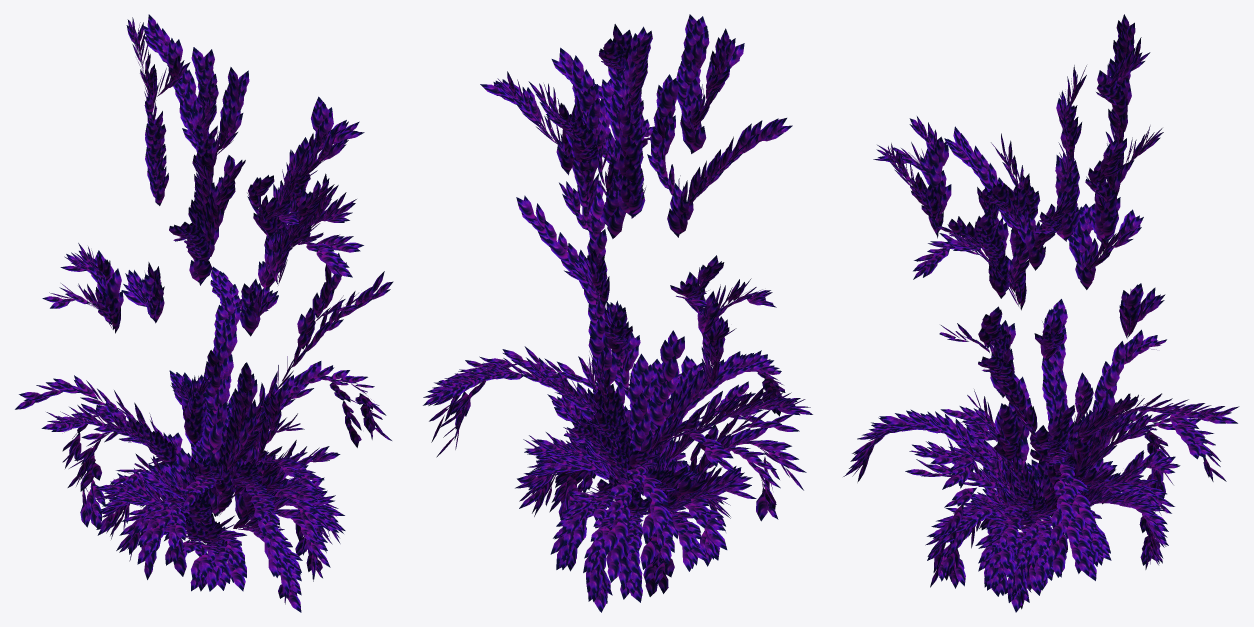
Rendered from arbol2hojas.obj.
3 views of the same model, side by side, from view 1: azimuth 30°, elevation 25°; view 2: azimuth 150°, elevation 25°; view 3: azimuth 270°, elevation 25° (orthographic). The views are drawn at different scales.
Parts seen in each view (by area): view 1: leaves.001; view 2: leaves.001; view 3: leaves.001.
Part boxes in pixels (<box>): leaves.001: <box>15,14,393,612</box>; leaves.001: <box>423,14,812,612</box>; leaves.001: <box>843,14,1239,612</box>.
Bounding box in the file's own units: 2.27 × 3.33 × 2.23.
